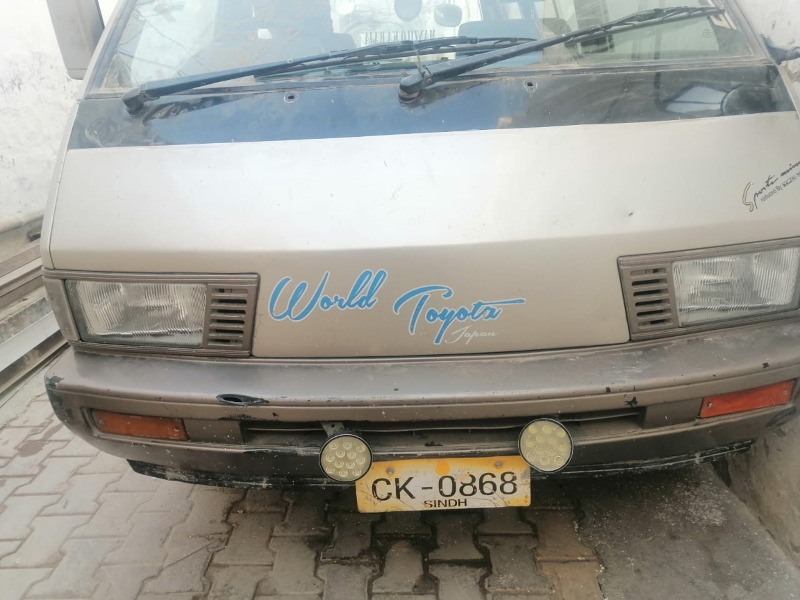License Plate: (356, 456, 532, 513)
